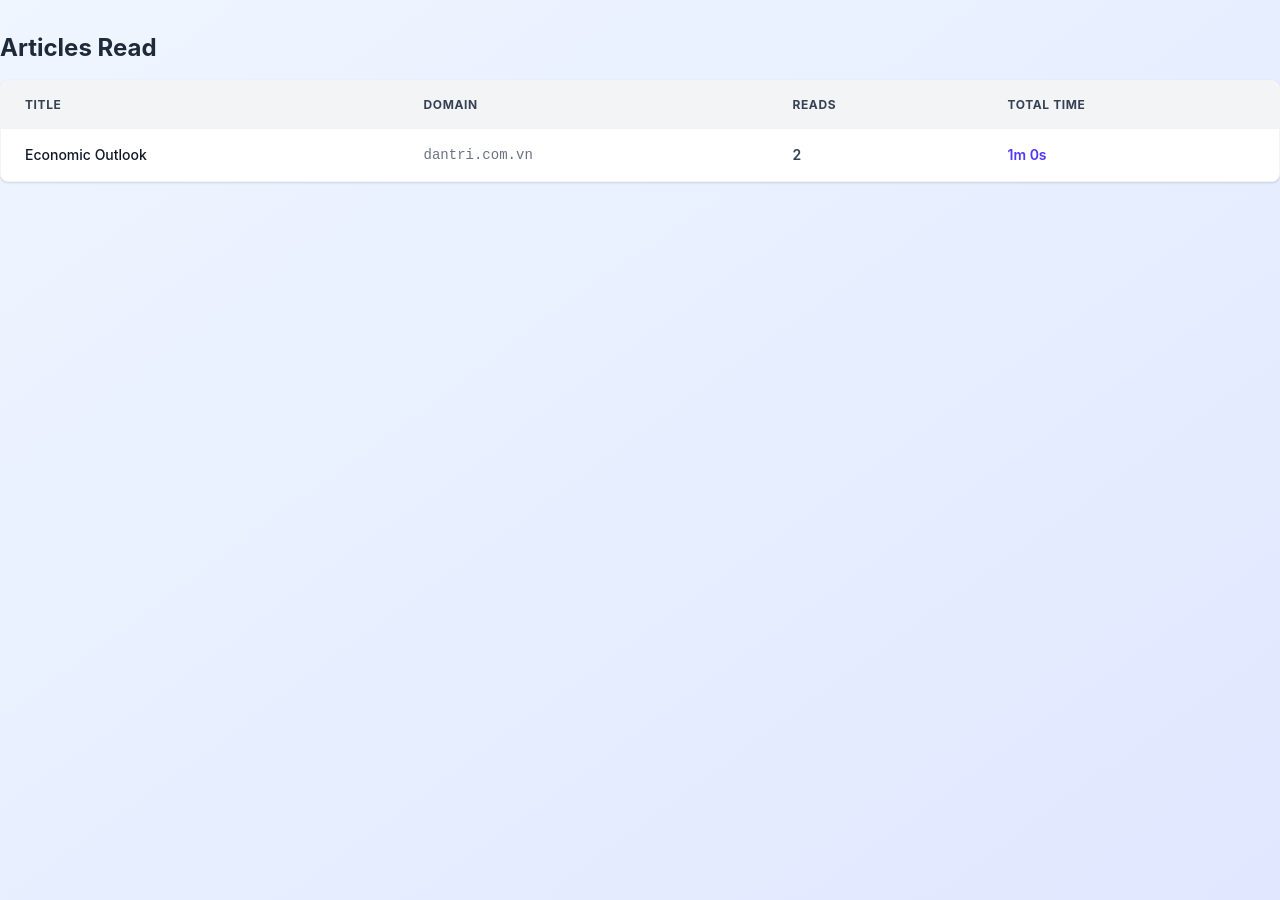
ArticleList (Pattern B: Partial Coverage + Pattern D: Unit Fail) › expands row to display article summary and topic on click
The image size is (1280, 900).
Click the text "Economic Outlook": (86, 154) left=1, top=129, right=400, bottom=181
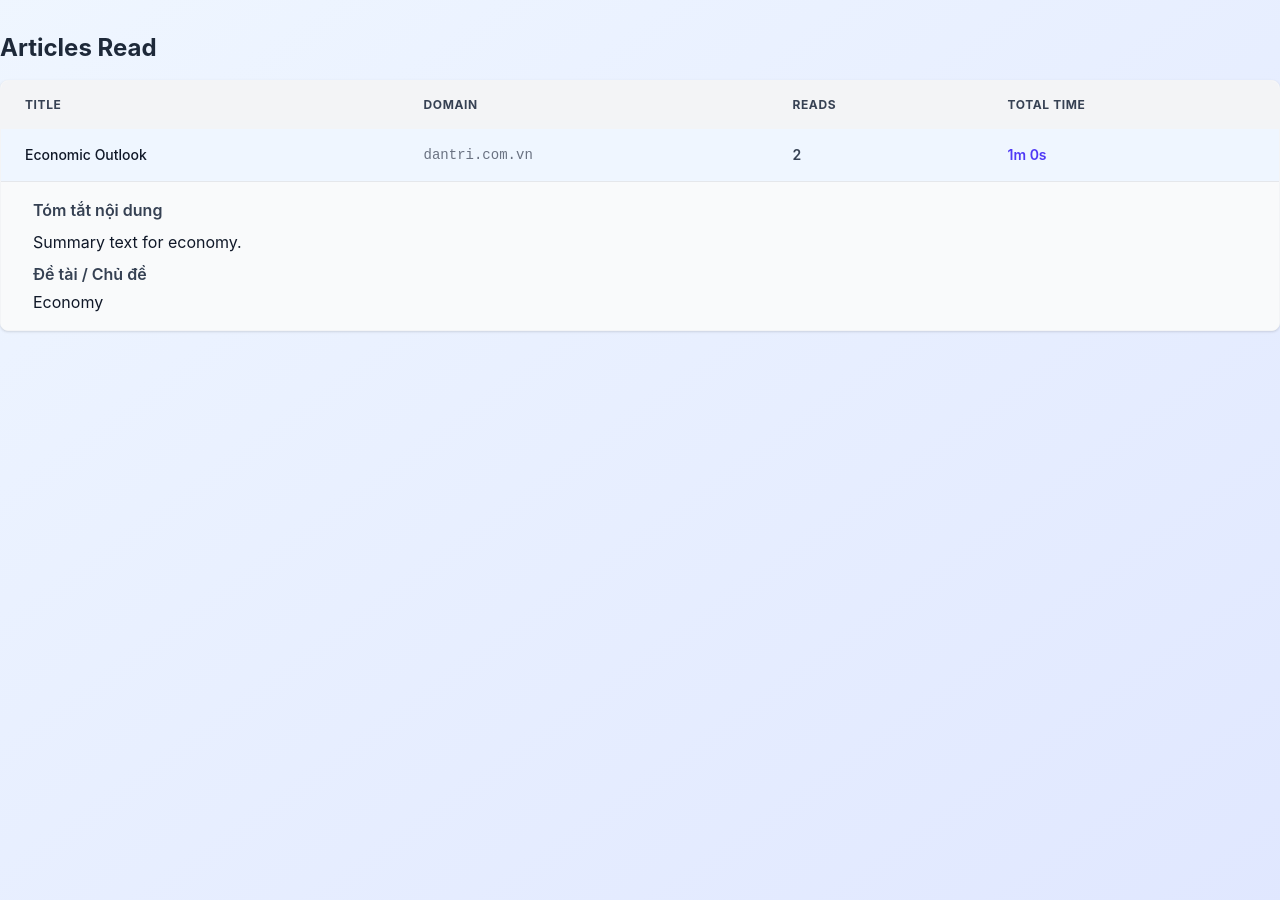
Result: the text "Summary text for economy." is shown at left=33, top=232, right=242, bottom=252
Result: the text "Economy" is shown at left=33, top=292, right=103, bottom=312
